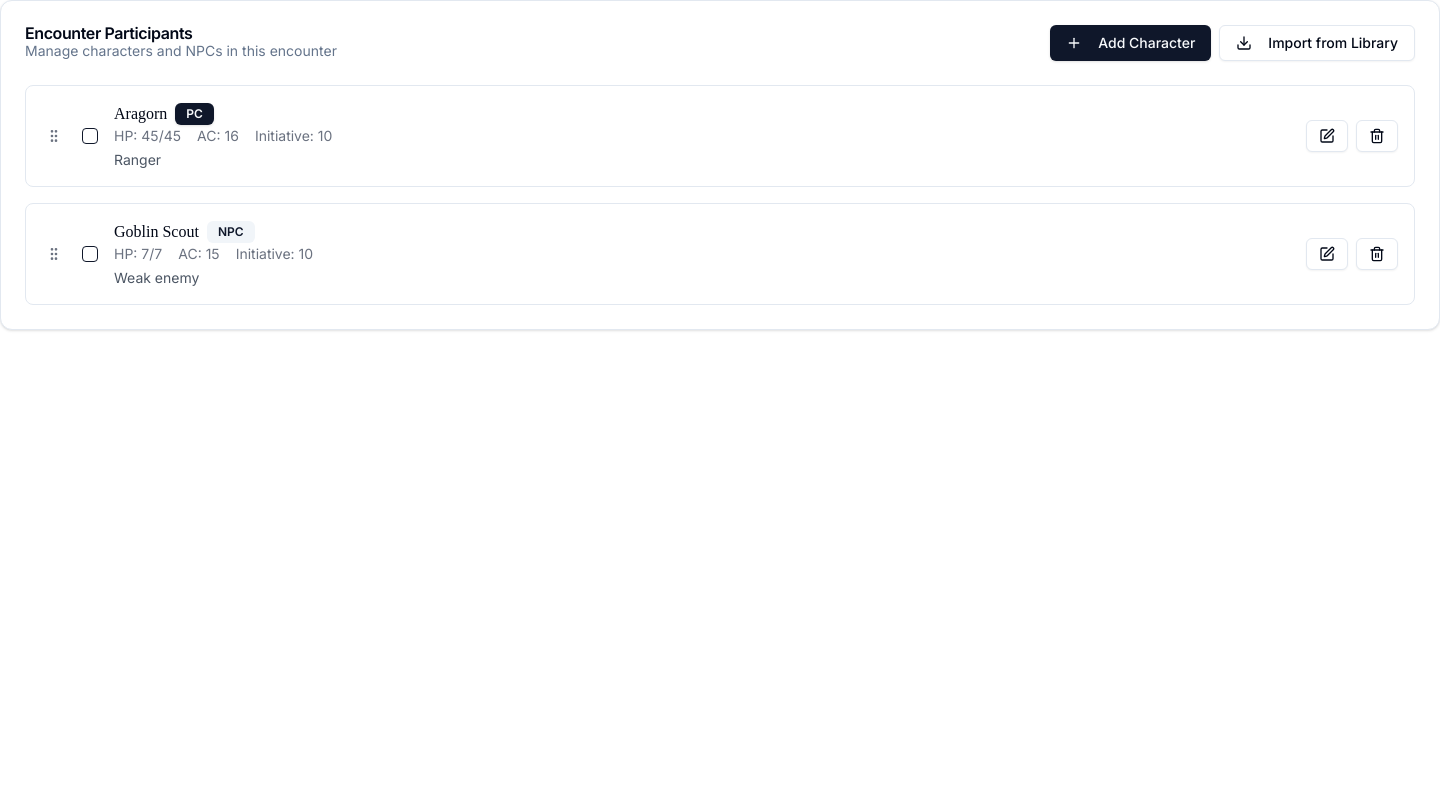
Test: EncounterParticipantManager › Removing Participants › should show remove confirmation dialog
Click the button named "Remove participant" at (1377, 136), box [1356,120,1398,152]
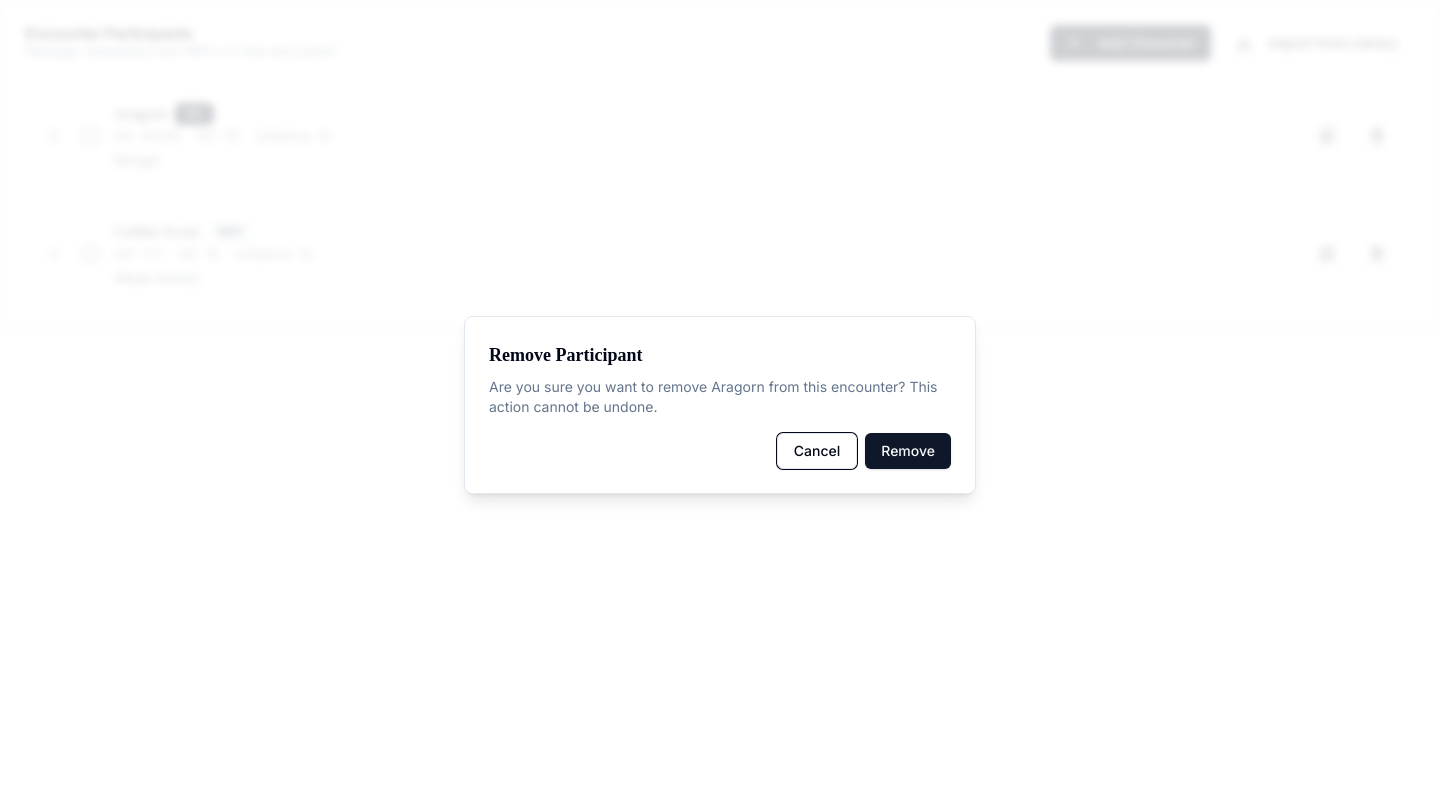
Result: the heading "Remove Participant" is shown at [489,345,642,365]
Result: the text "Are you sure you want to remove Aragorn" is shown at [489,377,951,417]
